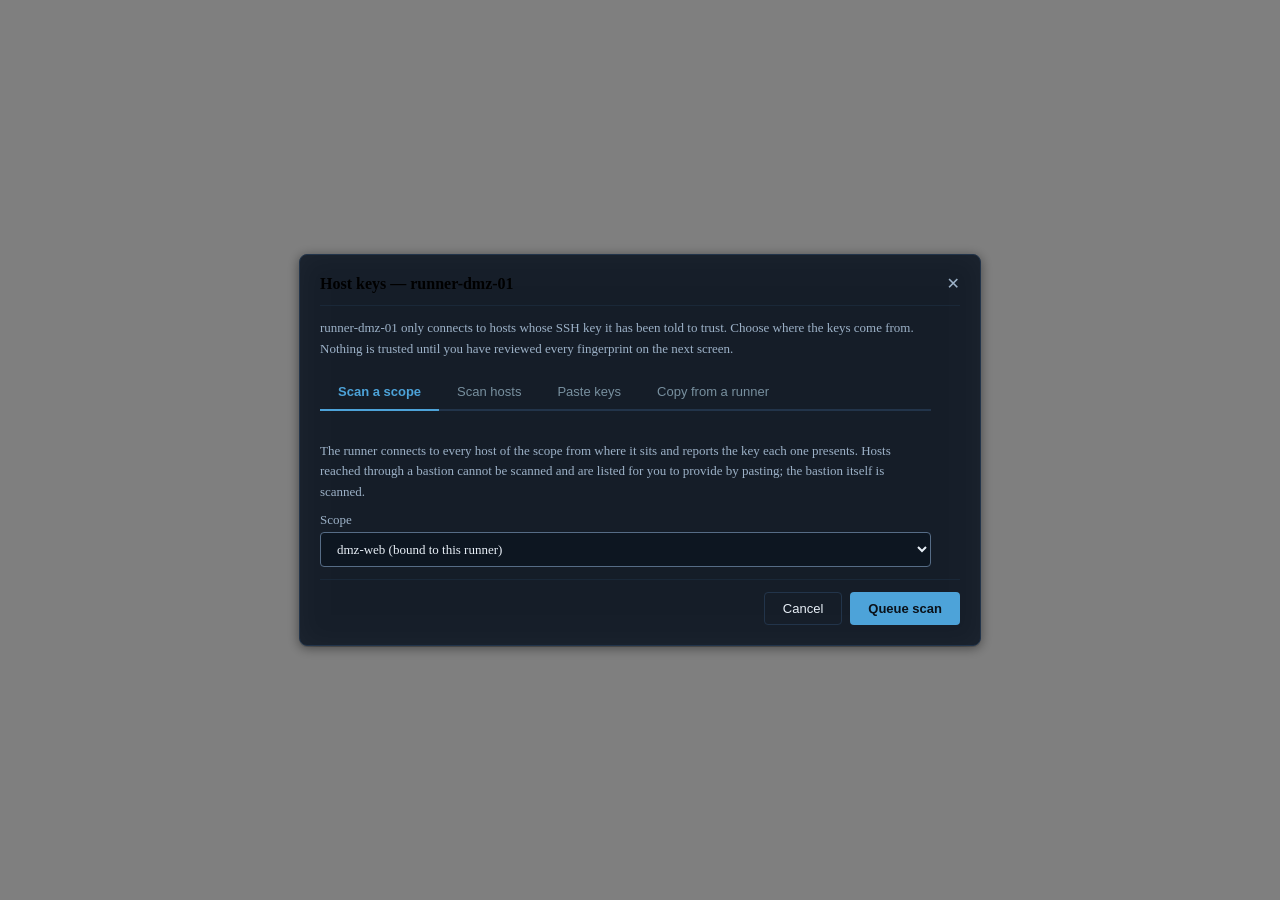
Test case: the host keys dialog › scans a scope, names the hosts it could not scan, and trusts only what is ticked
Expected: the dropdown named "Scope to scan" shows "dmz-web (bound to this runner)", [320,532,931,568]
Step 1. Click the button "Queue scan" → (905, 609), box [850,592,960,626]
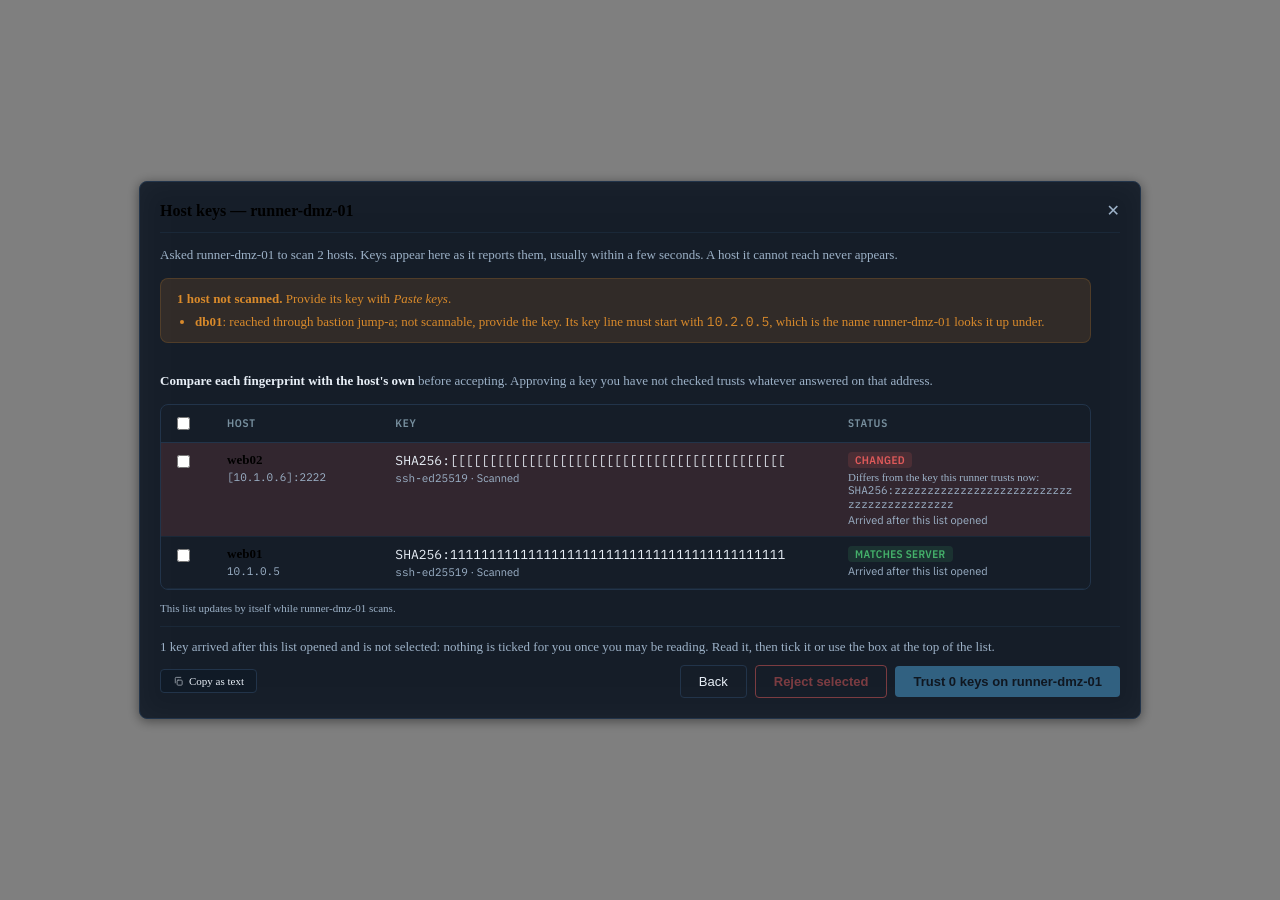
Now the text "1 host not scanned." is shown, box [177,291,282,306]
Now the list item "reached through bastion jump-a; not scannable, provide the key" is shown, box [229,314,559,329]
Now the text "10.2.0.5" is shown, box [707,313,769,330]
Note: "Select all" takes the matching key and leaves the changed one alone.
Step 2. Click the checkbox named "Select all keys except changed ones" → (184, 423), box [177,417,190,430]
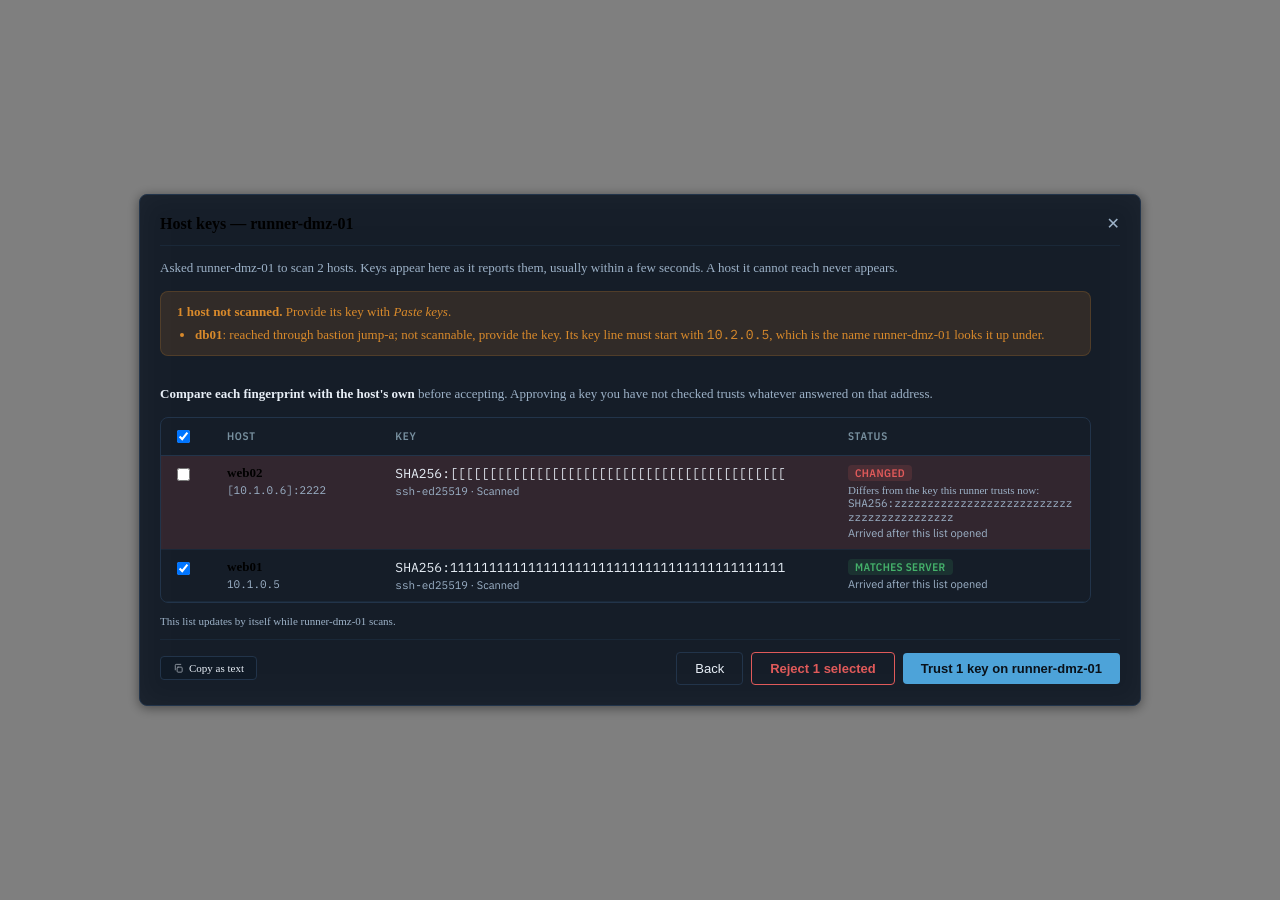
Step 3. Click the button "Trust 1 key on runner-dmz-01" → (1011, 668), box [903,653,1120,684]
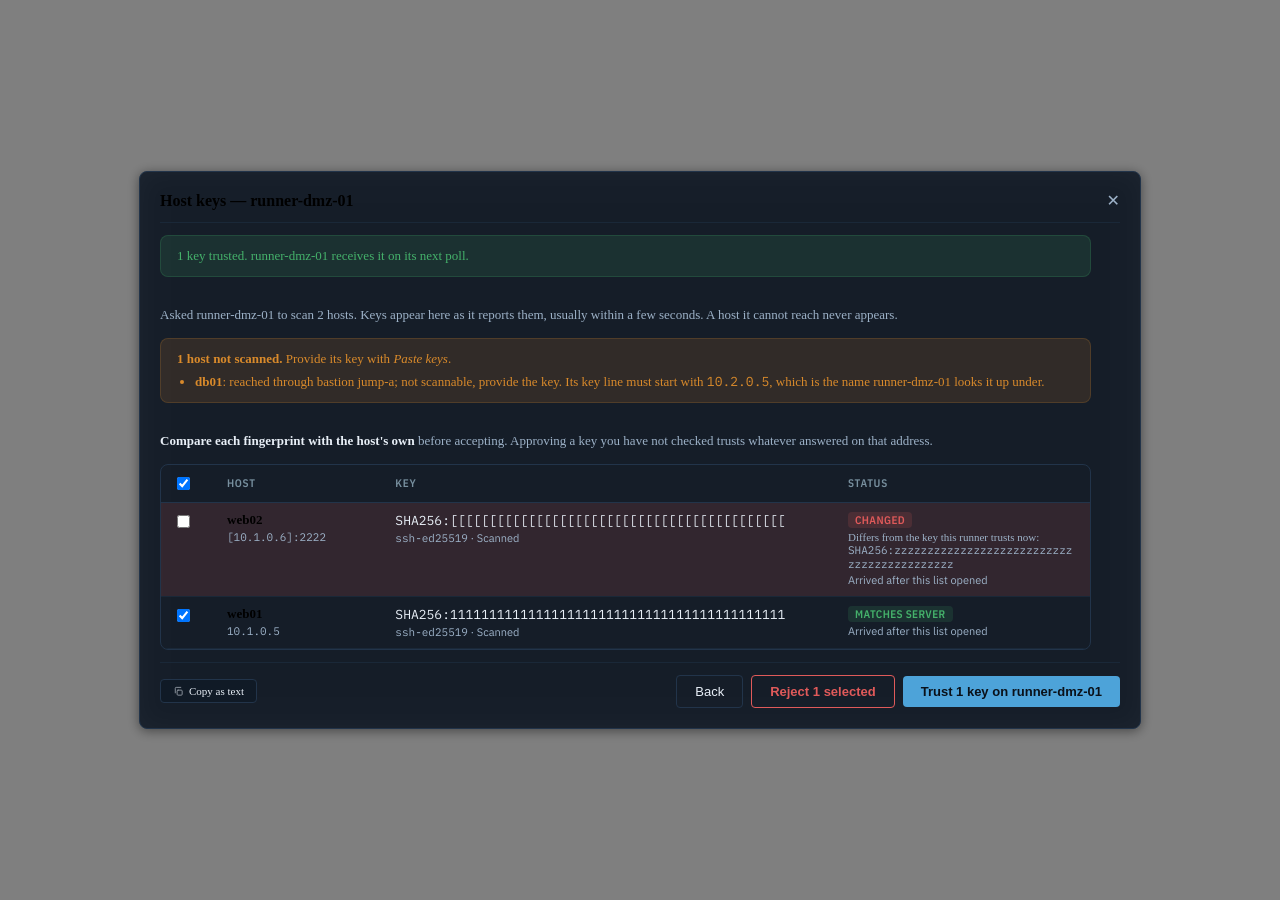
Now the text "1 key trusted. runner-dmz-01 receives it on its next poll." is shown, box [177,248,469,263]
